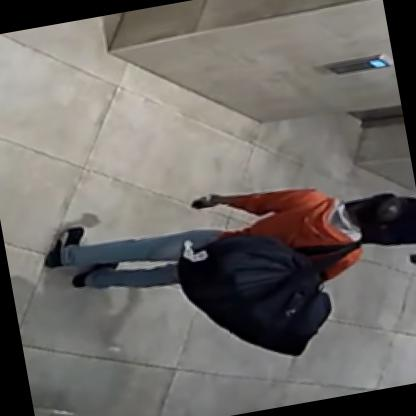Human Body: (33, 152, 415, 400)
